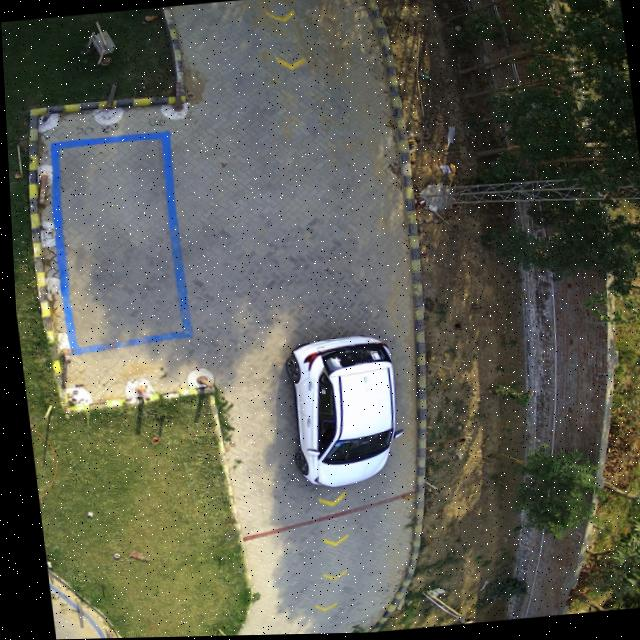car: (283, 338, 391, 487)
